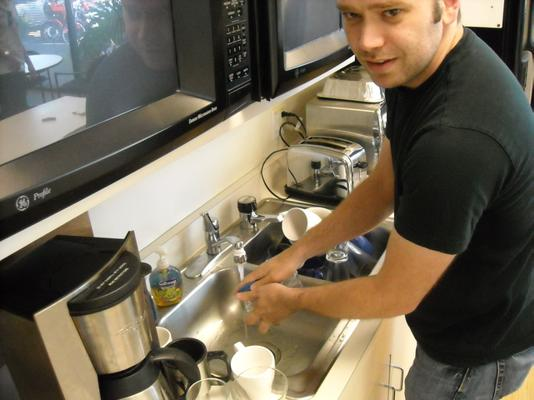person: (233, 1, 533, 400)
